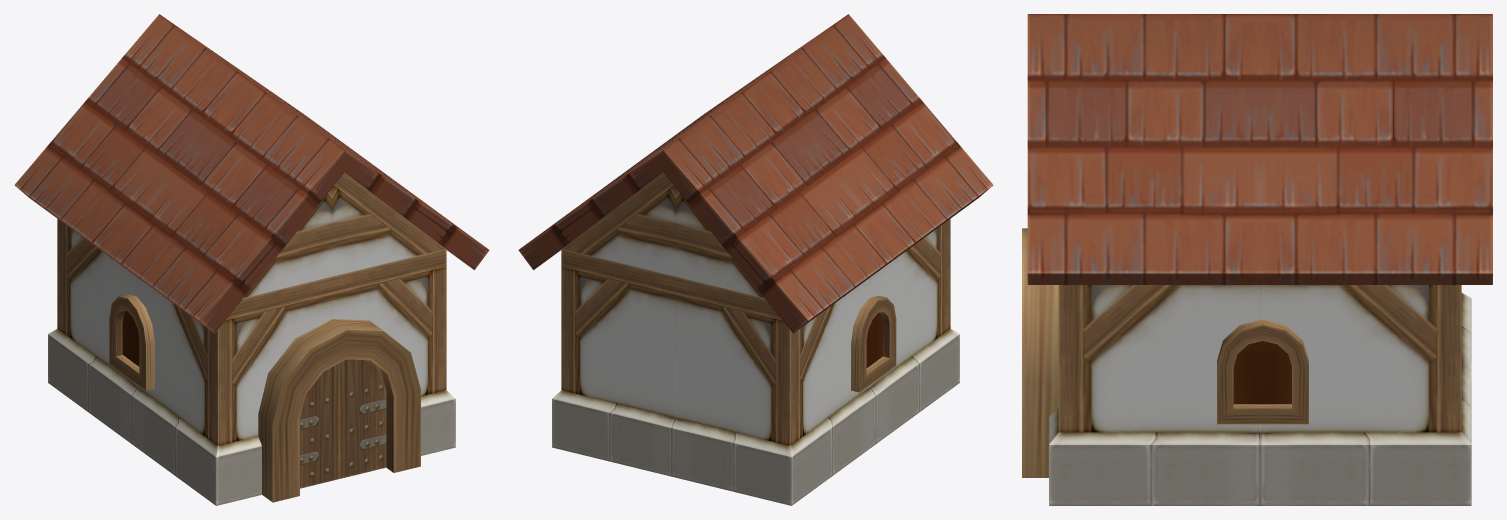
Rendered from House01.FBX.
3 views of the same model, side by side, from view 1: azimuth 30°, elevation 25°; view 2: azimuth 150°, elevation 25°; view 3: azimuth 270°, elevation 25° (orthographic). The views are drawn at different scales.
Parts seen in each view (by area): view 1: House01; view 2: House01; view 3: House01.
Part boxes in pixels (x1=…): House01: x1=14, y1=14, x2=489, y2=505; House01: x1=518, y1=14, x2=993, y2=505; House01: x1=1022, y1=14, x2=1492, y2=505.
Size of the model in its own units: 343 by 377 by 384.
